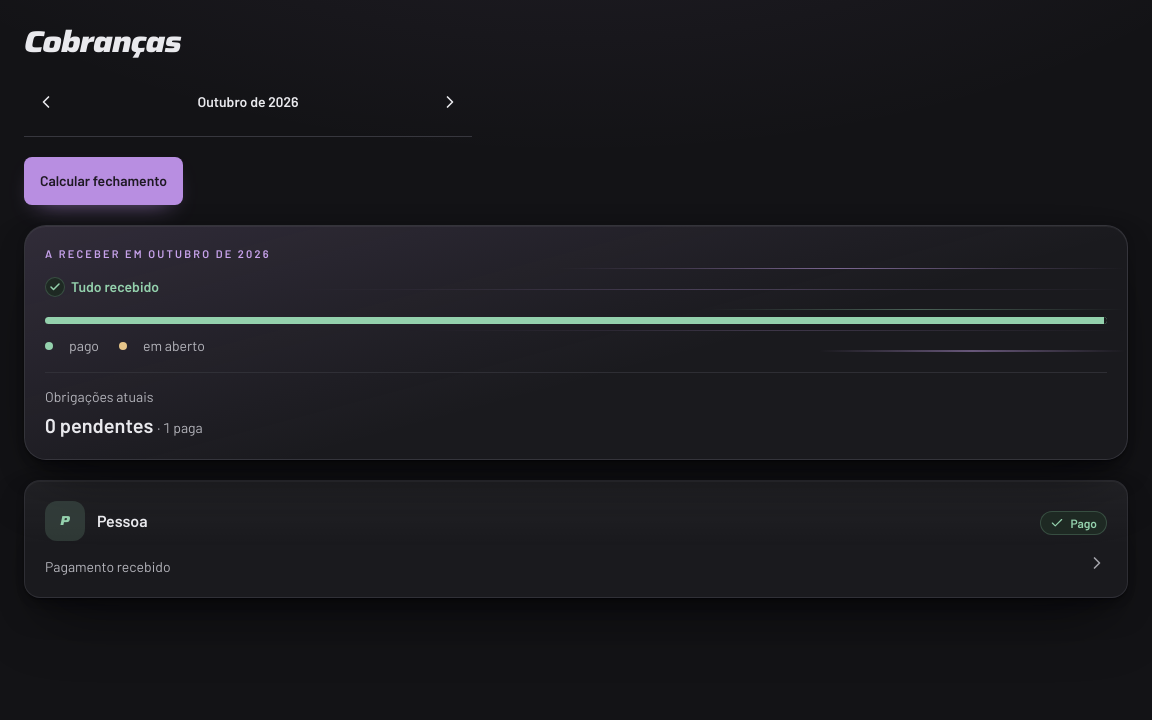
Test: closing page RPC anchors › hides desmarcar when no payment can be undone
The width and height of the screenshot is (1152, 720).
Expected: the text "Pago" is shown, [1040,510,1107,534]
What coordinates should you click on to do the following:
click the text "Pessoa"
I would click on:
 (122, 520)
Its box is [97,510,148,530].
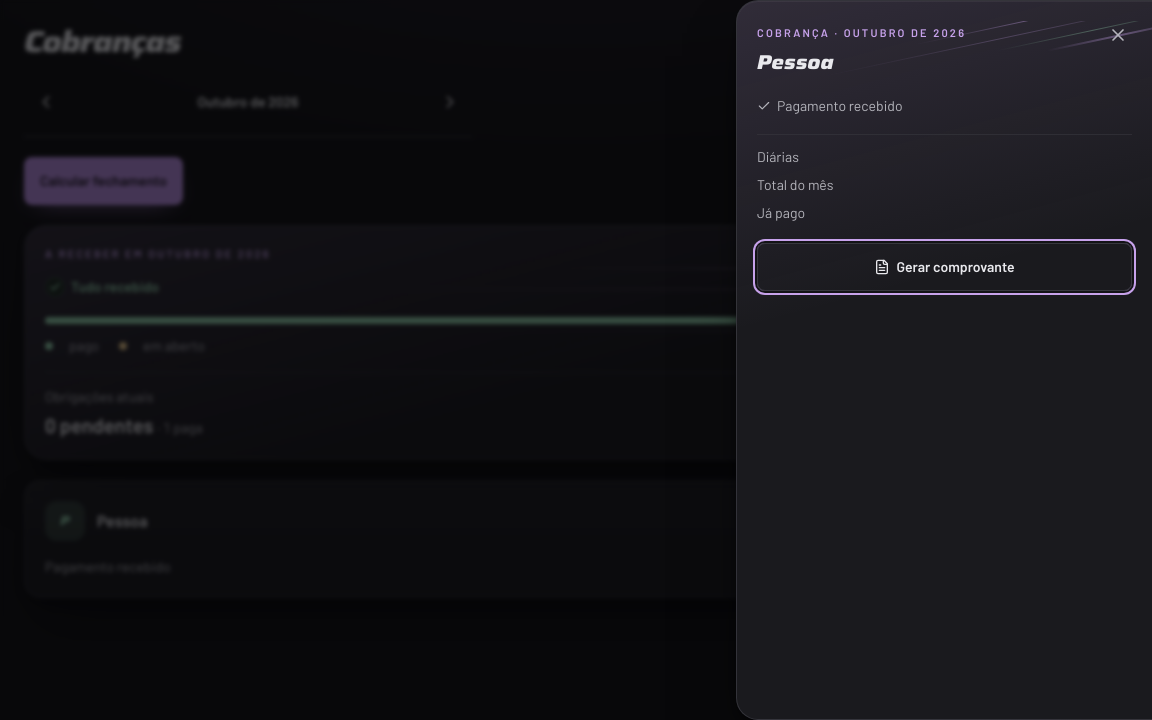
Result: the button "Gerar comprovante" is shown at [757,242,1132,290]
